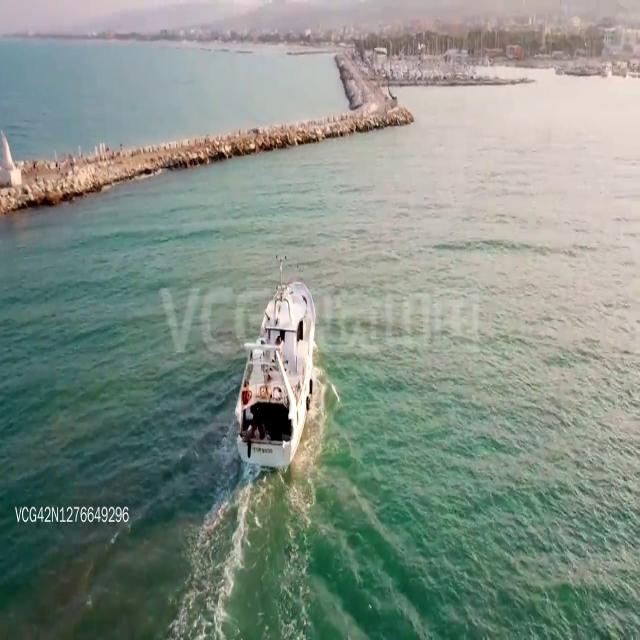houseboat: (233, 265, 317, 469)
